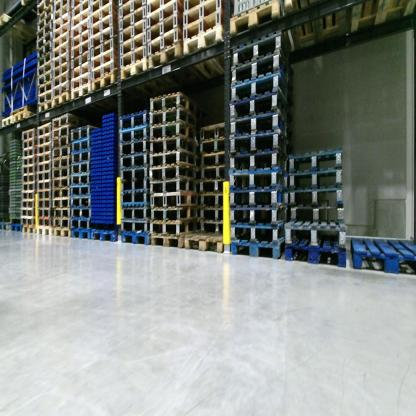pallet: (287, 0, 357, 58), (185, 25, 239, 86), (231, 27, 299, 70), (230, 47, 294, 87), (348, 233, 415, 271), (228, 74, 293, 113), (232, 113, 298, 150), (225, 2, 287, 38), (281, 246, 357, 272), (231, 93, 293, 123), (357, 0, 413, 33), (182, 14, 238, 46), (282, 221, 348, 246), (227, 235, 291, 259), (185, 2, 230, 36), (286, 166, 346, 190), (226, 136, 295, 156), (229, 150, 285, 174), (0, 11, 39, 45), (289, 150, 346, 173), (148, 92, 198, 118), (228, 225, 284, 248), (147, 11, 185, 44), (287, 186, 346, 207), (150, 217, 206, 239), (228, 170, 289, 190), (230, 206, 294, 225), (147, 28, 186, 59), (146, 2, 185, 32), (182, 232, 227, 258), (149, 135, 207, 155), (228, 188, 289, 207), (149, 191, 202, 212), (149, 161, 202, 182), (149, 104, 199, 126), (287, 207, 347, 224), (149, 45, 191, 69), (147, 150, 200, 169), (148, 178, 200, 197), (151, 122, 197, 142), (121, 59, 149, 87), (120, 45, 148, 71), (119, 19, 147, 45), (150, 209, 198, 224), (90, 67, 120, 91), (121, 31, 148, 57), (119, 4, 146, 30), (91, 50, 121, 73), (88, 28, 119, 50), (199, 118, 227, 142), (89, 3, 121, 23), (119, 108, 148, 130), (89, 48, 118, 70), (117, 140, 152, 157), (89, 17, 120, 36), (117, 124, 152, 140), (90, 62, 118, 81), (91, 37, 119, 56), (119, 192, 149, 209), (70, 48, 93, 70), (200, 137, 228, 155), (69, 125, 98, 142), (52, 113, 81, 130), (117, 156, 149, 171), (119, 1, 147, 18), (71, 40, 93, 61), (200, 165, 226, 182), (70, 61, 93, 80), (198, 220, 225, 236), (119, 208, 152, 221), (200, 150, 228, 165), (70, 10, 91, 30), (200, 179, 226, 195), (71, 85, 93, 103), (120, 234, 150, 247), (70, 149, 96, 164), (70, 19, 90, 38), (66, 186, 93, 200), (68, 138, 95, 152), (119, 179, 148, 192), (199, 205, 224, 220), (150, 239, 186, 249), (71, 29, 89, 49), (36, 12, 54, 32), (37, 20, 54, 41), (53, 3, 71, 22), (120, 223, 151, 234), (53, 41, 70, 61), (53, 21, 70, 41), (37, 30, 54, 50), (146, 1, 170, 15), (13, 111, 37, 125), (72, 74, 94, 89), (199, 195, 222, 209), (181, 1, 215, 10), (72, 1, 90, 18), (53, 82, 70, 100), (52, 63, 70, 80), (70, 197, 94, 209), (68, 174, 92, 186), (52, 127, 74, 140), (71, 219, 92, 232), (38, 79, 54, 96), (37, 87, 54, 103), (51, 73, 69, 88), (52, 54, 70, 69), (51, 144, 70, 158), (91, 232, 117, 242), (52, 136, 72, 149), (37, 50, 53, 66), (54, 94, 71, 109), (54, 13, 71, 28), (37, 42, 52, 59), (21, 136, 38, 151), (89, 2, 110, 14), (38, 3, 52, 21), (70, 210, 89, 223), (119, 171, 149, 179), (68, 164, 92, 174), (54, 35, 71, 49), (37, 60, 51, 77), (37, 1, 52, 16), (37, 71, 52, 86), (37, 122, 53, 136), (38, 130, 52, 145), (51, 199, 72, 209), (52, 178, 71, 189), (38, 100, 54, 113), (38, 141, 51, 157), (35, 170, 52, 182), (51, 189, 71, 199), (51, 158, 71, 168), (54, 0, 69, 13), (22, 155, 37, 168), (22, 144, 37, 157), (37, 151, 52, 164), (37, 160, 52, 173), (22, 130, 38, 142), (52, 168, 71, 178), (54, 217, 71, 228), (20, 219, 37, 229), (2, 115, 15, 128), (36, 189, 50, 201), (21, 191, 37, 201), (21, 164, 37, 174), (36, 179, 52, 189), (22, 225, 36, 236), (52, 228, 71, 236), (20, 209, 35, 219), (54, 209, 72, 217), (71, 232, 91, 239), (8, 223, 22, 233), (37, 227, 52, 236), (37, 200, 51, 209), (37, 209, 51, 218), (37, 218, 51, 227), (0, 220, 11, 231), (21, 201, 35, 209), (23, 174, 35, 183), (24, 183, 37, 191), (71, 2, 82, 8), (119, 1, 129, 5)
